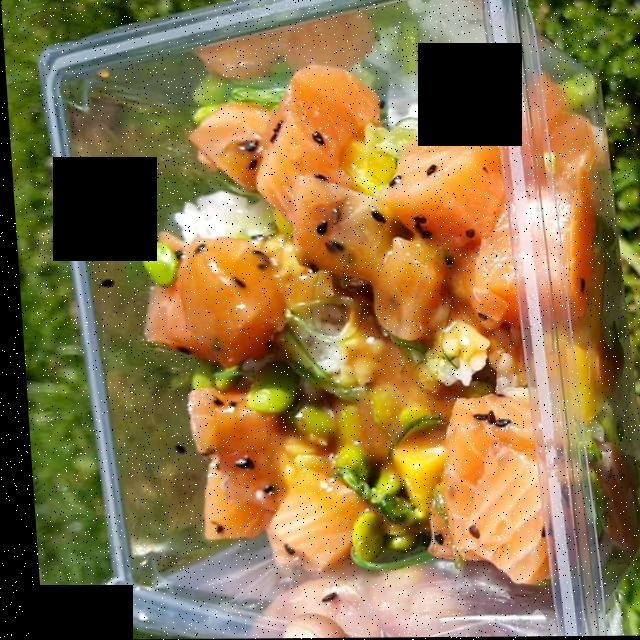rice: (170, 183, 354, 358), (247, 85, 493, 183)
salad: (223, 315, 475, 556)
salmon: (135, 72, 591, 588)
